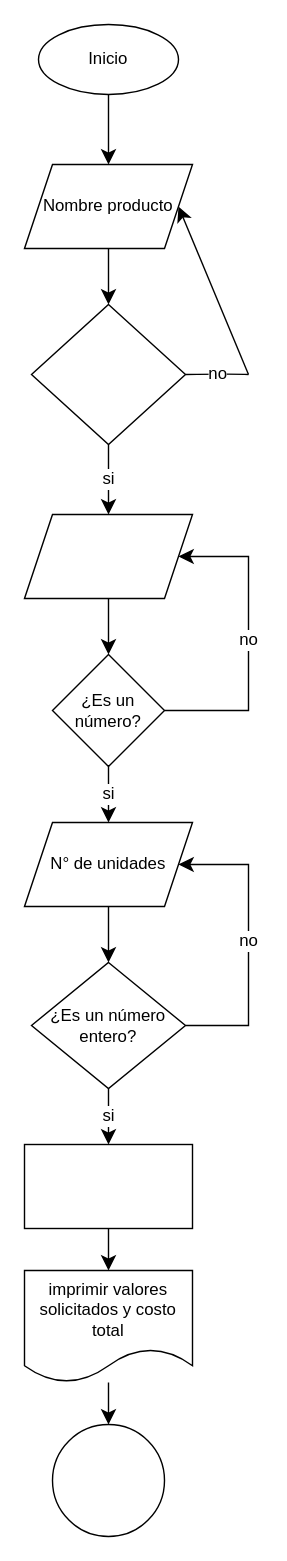
Some shapes in this 287 by 1561 pixel diagram are drawn without their labels. Here are the shapes that lost their labels. From the top down, the box of each, then its label:
(30, 303, 186, 444): ¿Escribió algún nombre?
(23, 513, 192, 598): Precio unidad
(23, 1143, 192, 1228): costo total= unidad*cantidad
